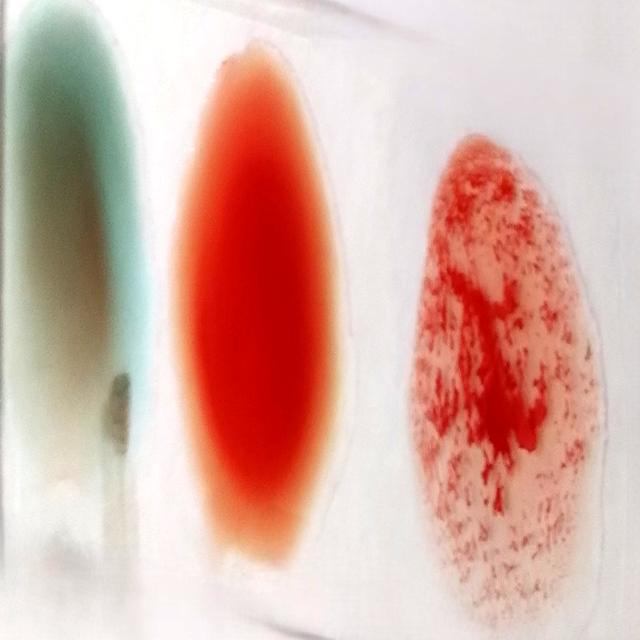D: (419, 129, 589, 630)
